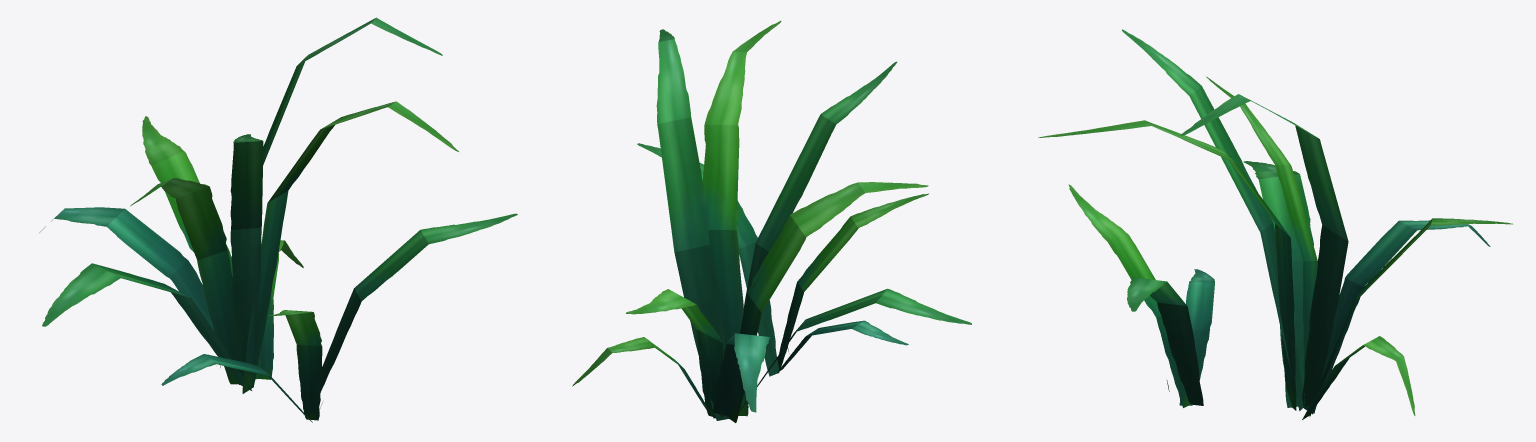
File: Yland1_Zb_20_Yland1.FBX
The picture shows the model from 3 angles, left to right: view 1: azimuth 30°, elevation 25°; view 2: azimuth 150°, elevation 25°; view 3: azimuth 270°, elevation 25°; orthographic projection. The views are drawn at different scales.
Parts seen in each view (by area): view 1: Yland1_Zb_20_Yland1; view 2: Yland1_Zb_20_Yland1; view 3: Yland1_Zb_20_Yland1.
Boxes of the visible parts, x1=… form: Yland1_Zb_20_Yland1: x1=39, y1=17, x2=517, y2=422; Yland1_Zb_20_Yland1: x1=572, y1=21, x2=971, y2=422; Yland1_Zb_20_Yland1: x1=1038, y1=29, x2=1512, y2=419.
Bounding box in the file's own units: 0.9416 × 0.7369 × 0.9327.
